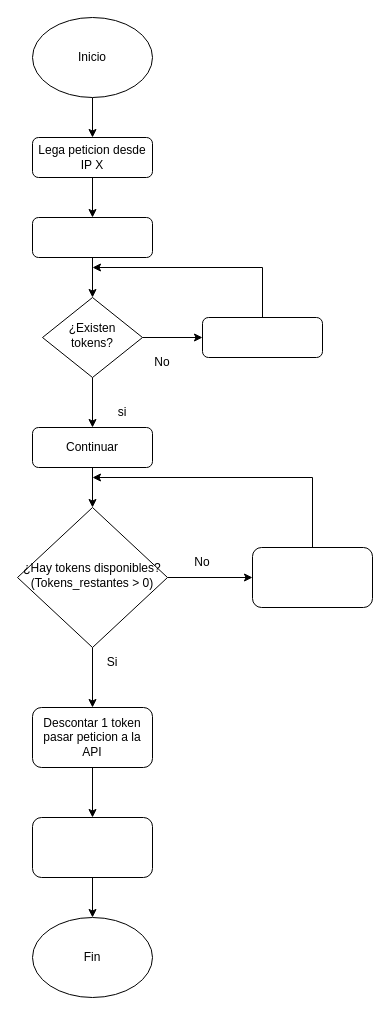
Image size: 390x1015. Some labels were removed from this diagram. The shapes that lost their labels are listed below. From the top down, each one's centre as x and y in pixels, then its label:
(92,237): Buscar en Redis token de IP X
(262,337): Crear bucket con MAX_TOKENS
(312,577): Rechazar peticion HTTP 429 "Too Many Request)
(92,847): Registrar en SQL Server (timestamp, IP, accion)
